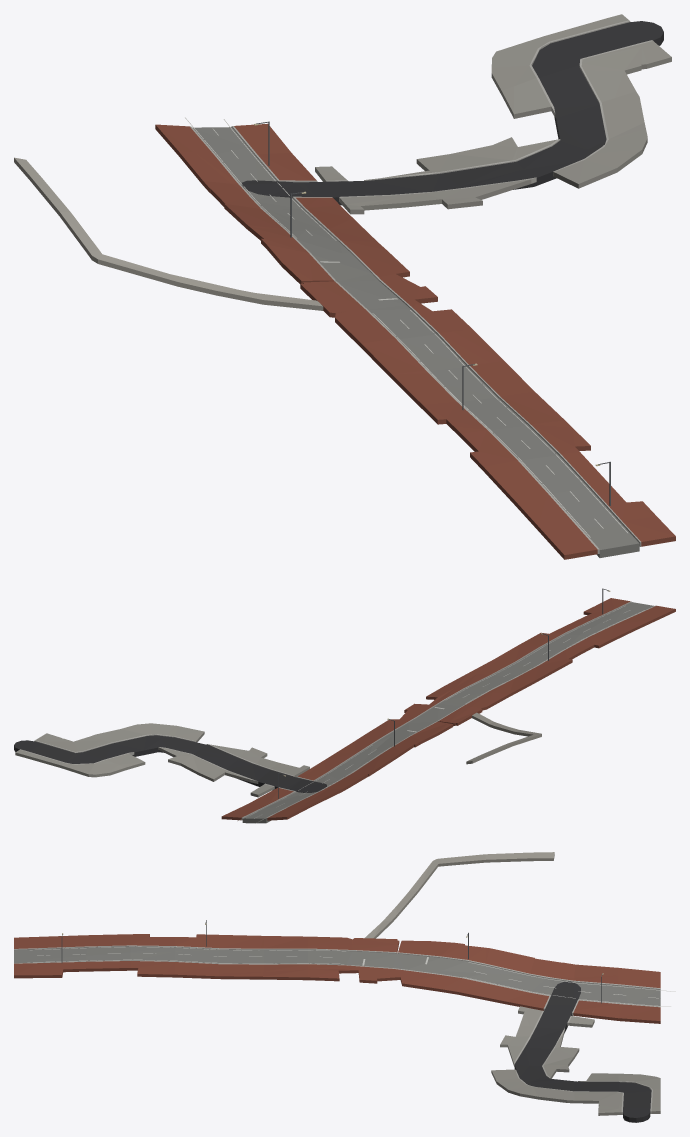
3 renders of one model, top to bottom at view 1: azimuth 30°, elevation 25°; view 2: azimuth 150°, elevation 25°; view 3: azimuth 270°, elevation 25°, orthographic. The views are drawn at different scales.
Bounding box in the file's own units: 115 × 19.04 × 149.
